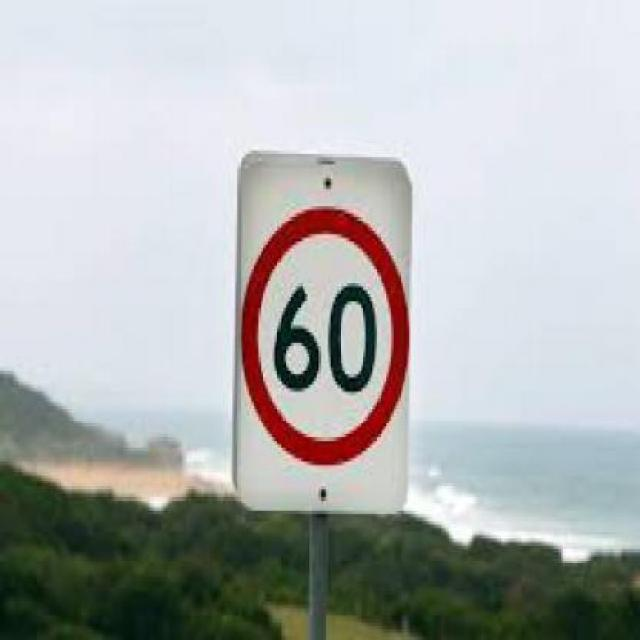Ograniczenie predkosci do 60: (242, 198, 415, 472)
